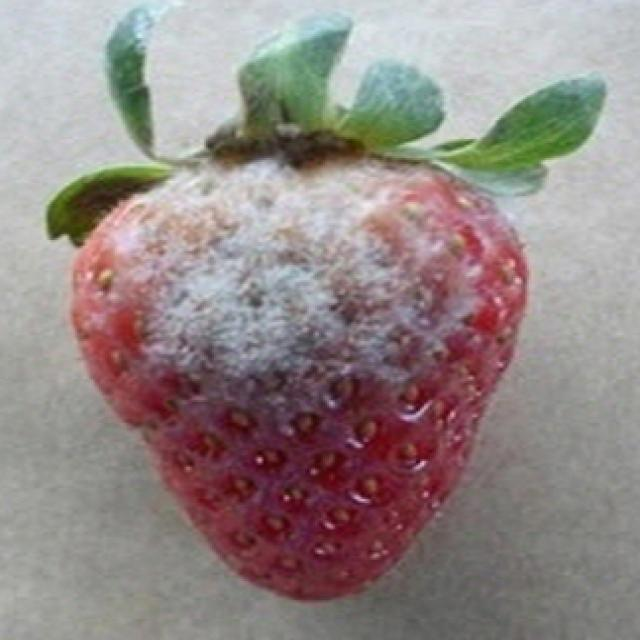Powdery Mildew Fruit: (67, 143, 534, 451)
